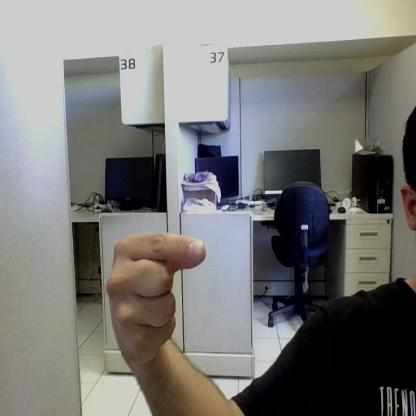G: (107, 232, 206, 362)
